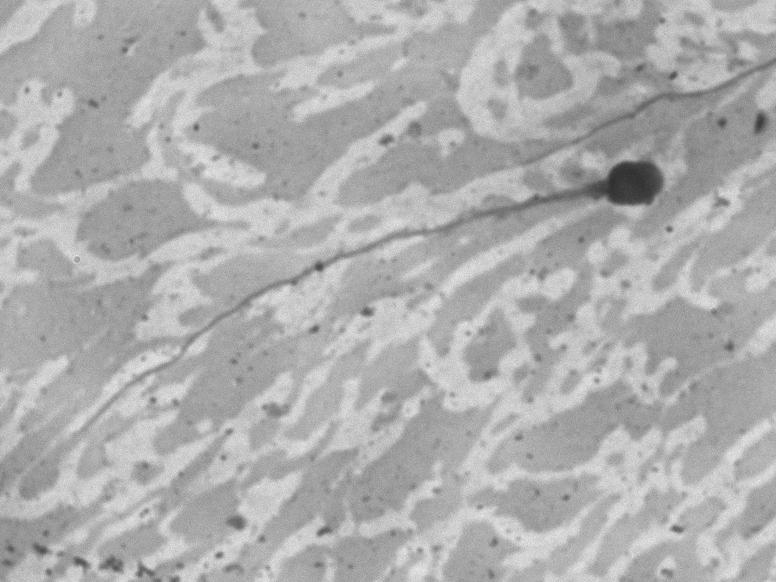Abnormal: (27, 136, 677, 468)
